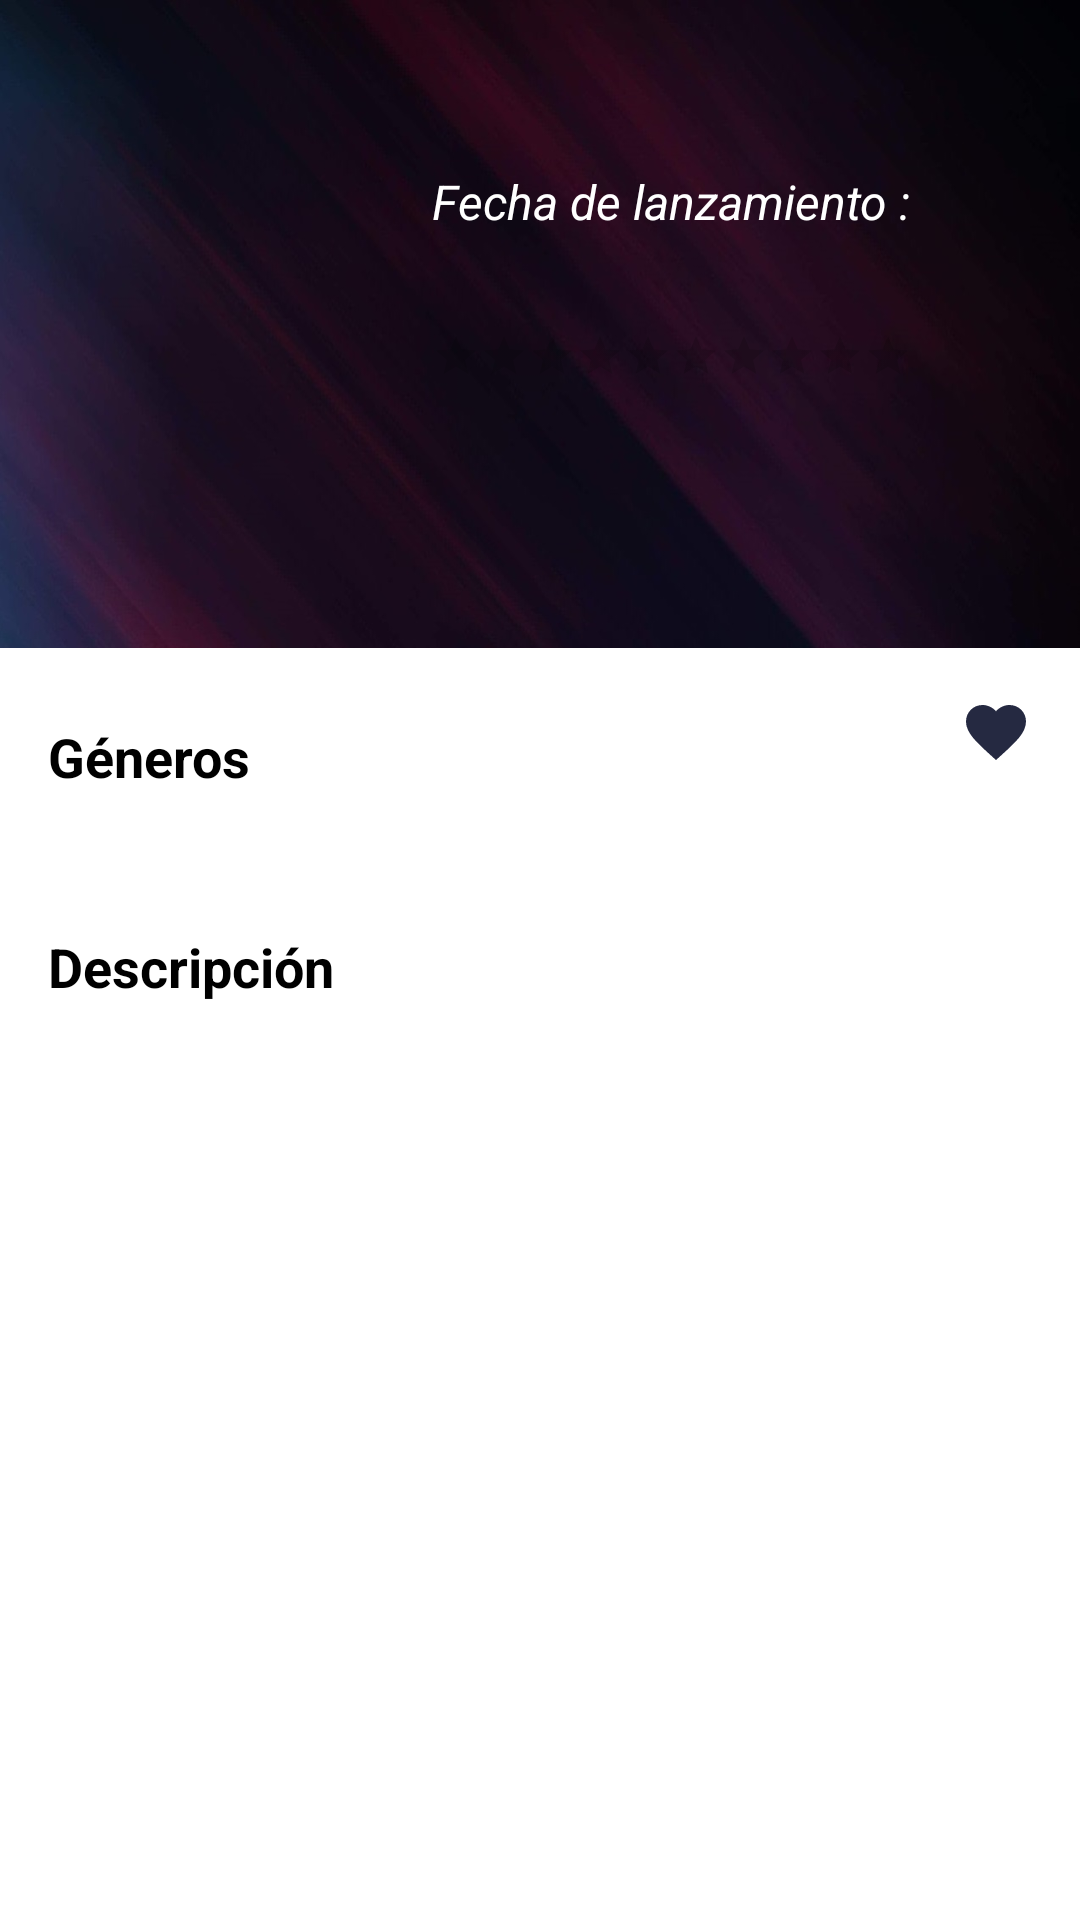

Named icons in this screenshot (1080px×1920px) and their bounding boxes, (x1, y1, x2, y2):
favorite: (966, 705, 1026, 760)
